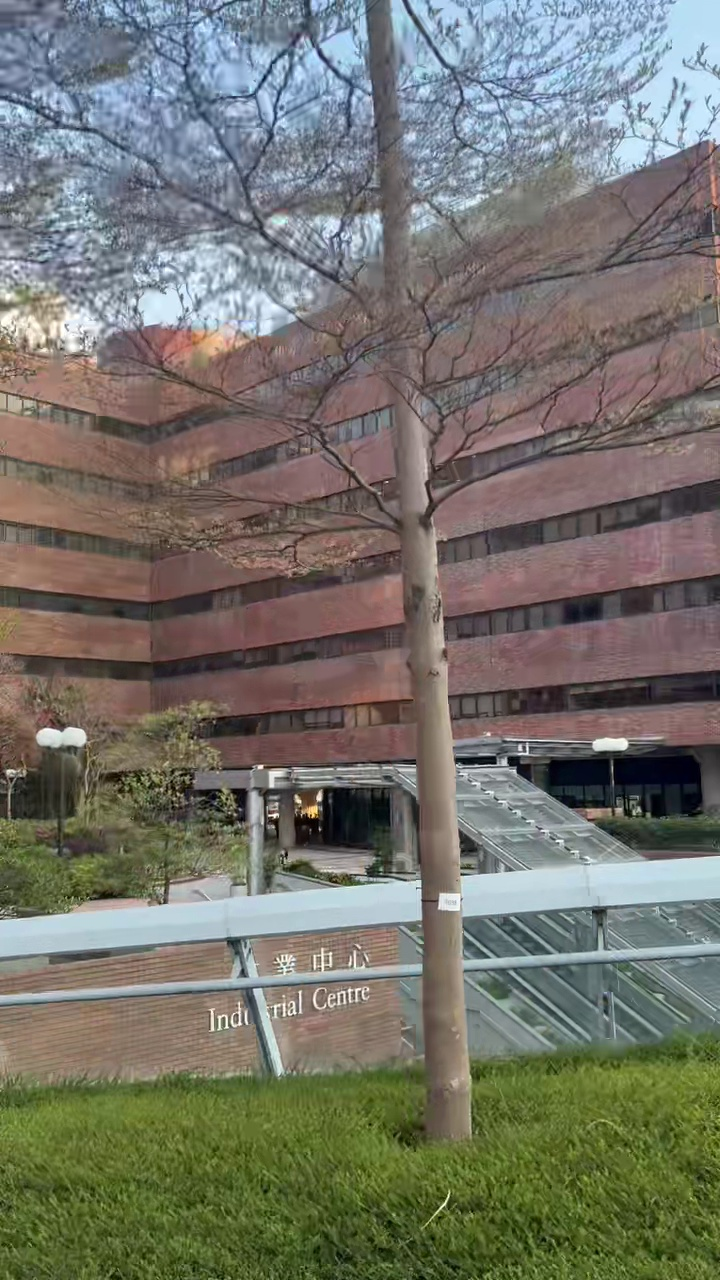Terminalia mantaly: (0, 0, 716, 1138)
